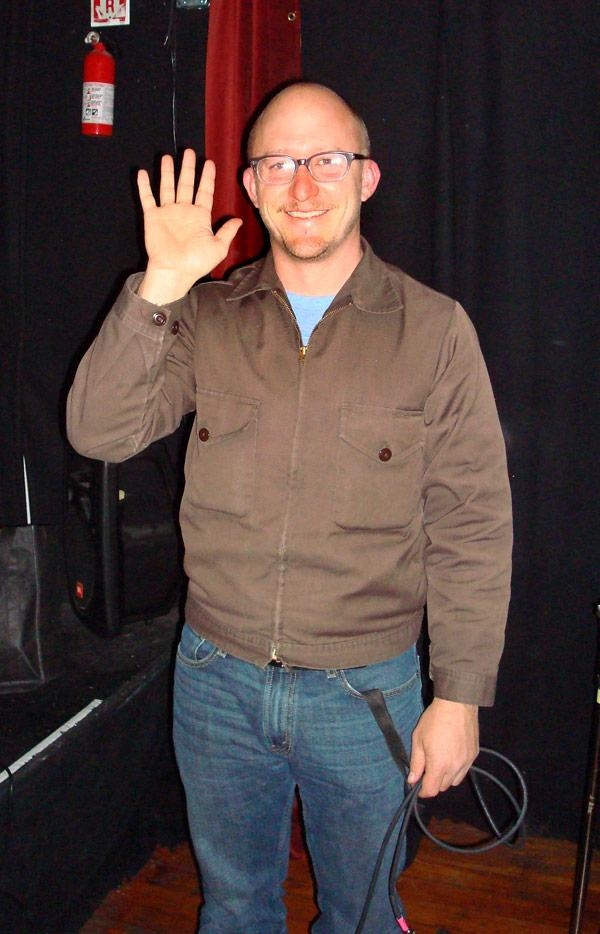person: (66, 87, 510, 934)
